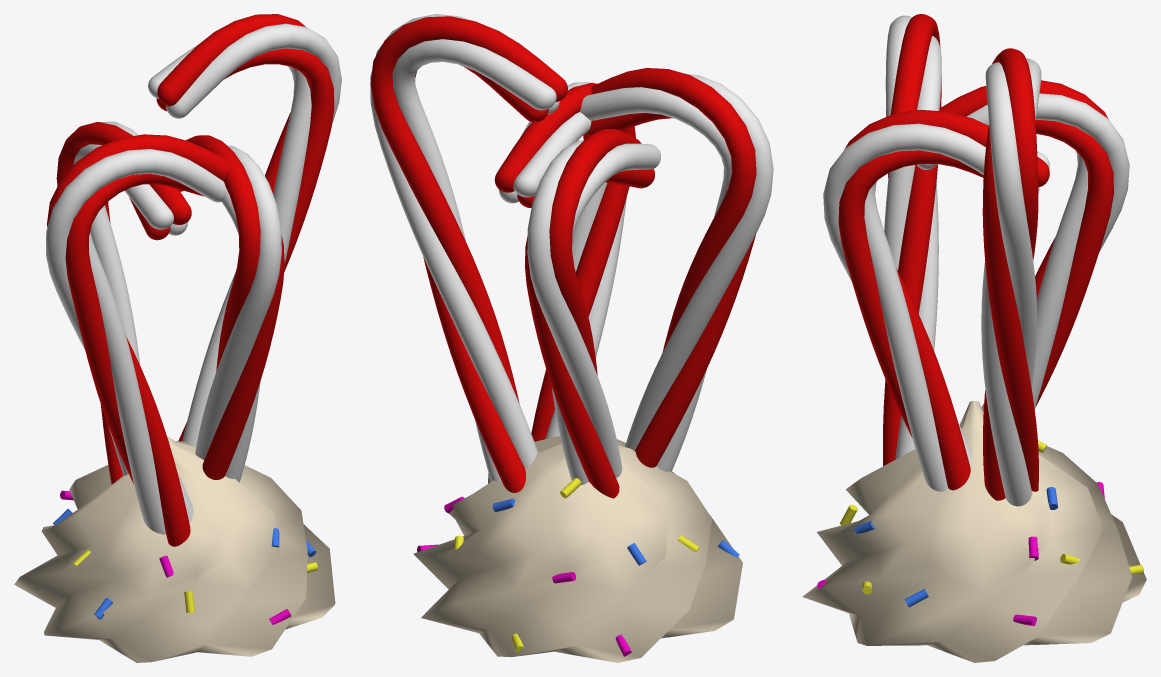
File: CandyCanes1.fbx
3 views of the same model, side by side, from view 1: azimuth 30°, elevation 25°; view 2: azimuth 150°, elevation 25°; view 3: azimuth 270°, elevation 25° (orthographic). The views are drawn at different scales.
Visible parts, largest first — view 1: cream.004, Red Candy Cane.008, Red Candy Cane.001, Red Candy Cane.002, Red Candy Cane.007; view 2: cream.004, Red Candy Cane.001, Red Candy Cane.008, Red Candy Cane.007, Red Candy Cane.002; view 3: cream.004, Red Candy Cane.002, Red Candy Cane.001, Red Candy Cane.007, Red Candy Cane.008.
Part boxes in pixels (x1,y1,x2,y2): cream.004: [14, 436, 335, 662]; Red Candy Cane.008: [46, 134, 229, 546]; Red Candy Cane.001: [148, 14, 341, 446]; Red Candy Cane.002: [179, 135, 284, 482]; Red Candy Cane.007: [56, 121, 191, 483]; cream.004: [413, 436, 742, 662]; Red Candy Cane.001: [370, 14, 567, 492]; Red Candy Cane.008: [580, 68, 773, 471]; Red Candy Cane.007: [524, 129, 660, 498]; Red Candy Cane.002: [494, 82, 635, 441]; cream.004: [802, 401, 1146, 662]; Red Candy Cane.002: [823, 109, 1049, 491]; Red Candy Cane.001: [981, 48, 1041, 506]; Red Candy Cane.007: [917, 80, 1129, 411]; Red Candy Cane.008: [883, 14, 941, 466].
Size of the model in its own units: 242 by 373 by 200.
